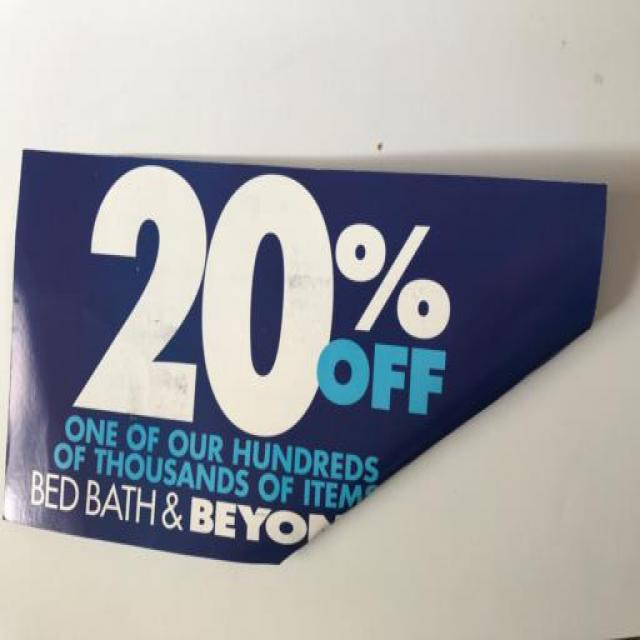paper: (1, 100, 614, 600)
